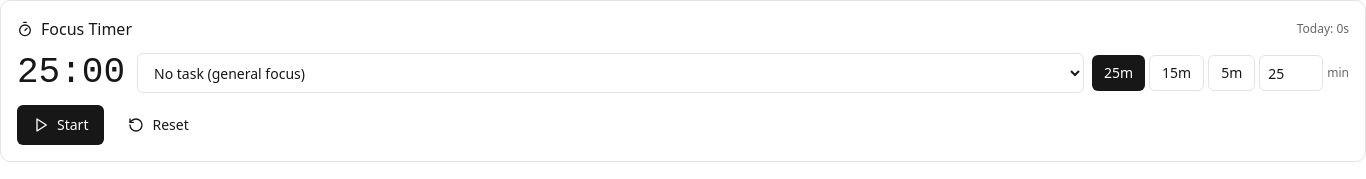
Test: PomodoroTimer › supports a custom duration
Replace the text in the number field named "Custom minutes" with "50" at (1291, 73), box [1259,55,1323,91]
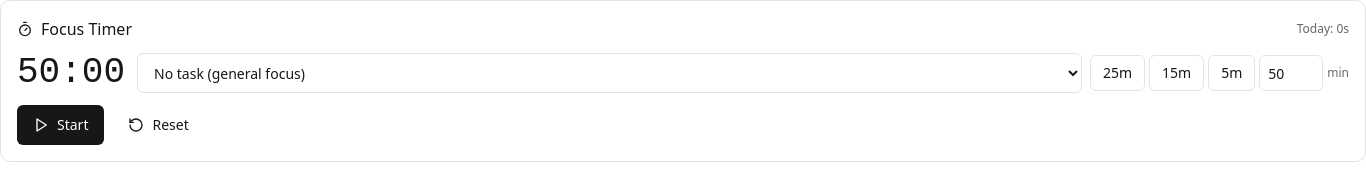
Result: the text named "Time remaining" reads "50:00" at [17,52,125,93]
